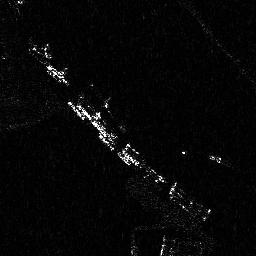ship: (180, 149, 223, 164)
